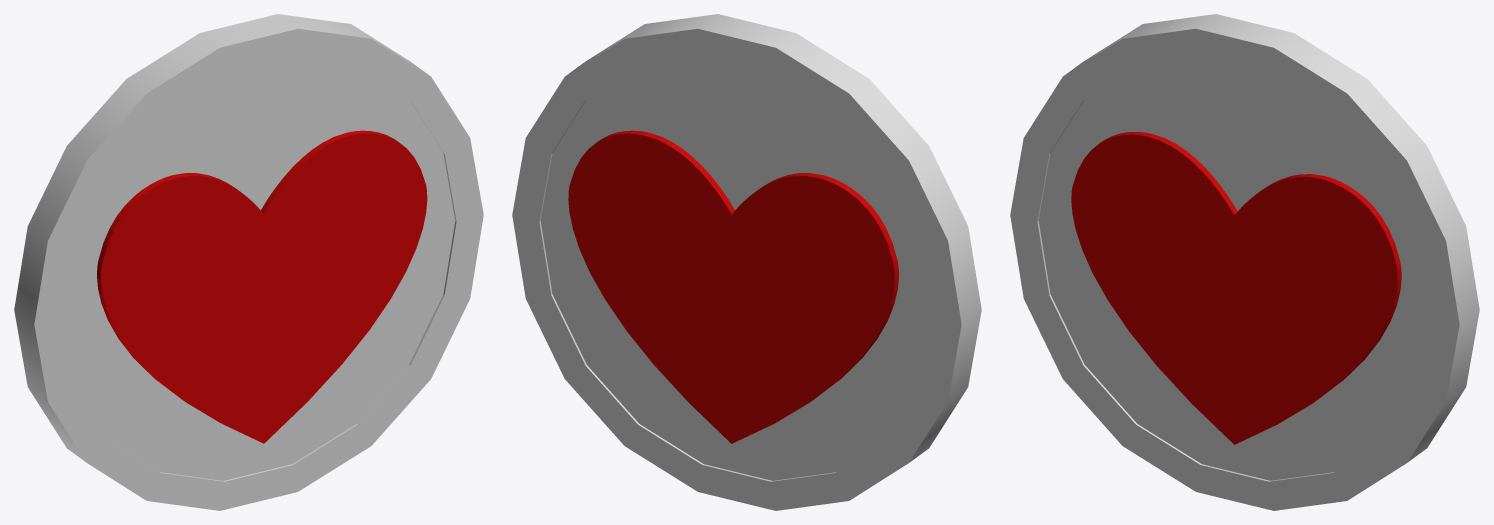
Rendered from heart_pickup.fbx.
3 renders of one model, left to right at view 1: azimuth 30°, elevation 25°; view 2: azimuth 150°, elevation 25°; view 3: azimuth 330°, elevation 25°, orthographic.
Parts seen in each view (by area): view 1: Cylinder008, heart; view 2: Cylinder008, heart; view 3: Cylinder008, heart.
Boxes of the visible parts, x1=… form: Cylinder008: x1=14, y1=14, x2=483, y2=510; heart: x1=97, y1=130, x2=427, y2=443; Cylinder008: x1=512, y1=14, x2=981, y2=510; heart: x1=568, y1=130, x2=898, y2=443; Cylinder008: x1=1010, y1=14, x2=1479, y2=510; heart: x1=1071, y1=132, x2=1401, y2=444.
Size of the model in its own units: 0.6831 by 0.6727 by 0.068.
